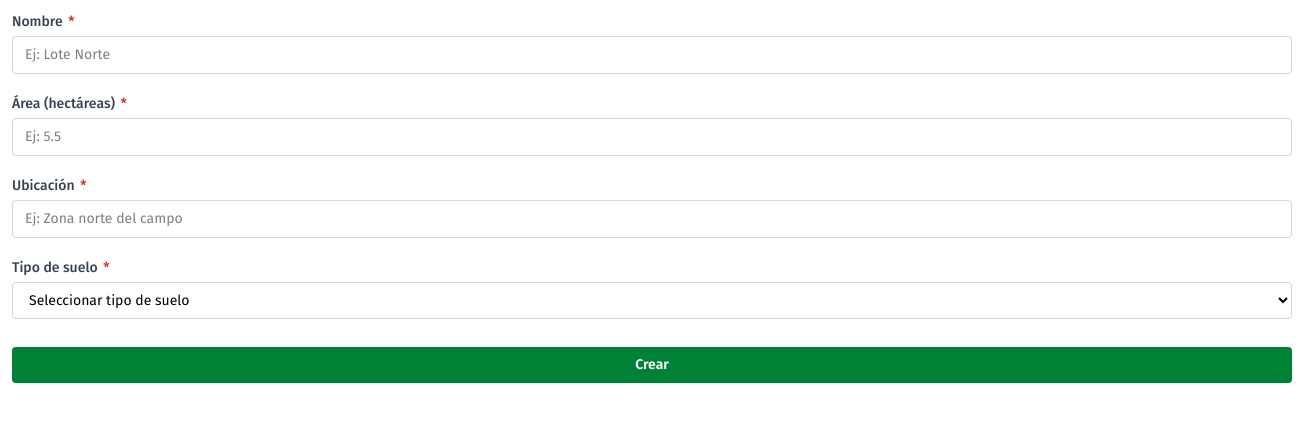
ParcelForm › shows validation error for empty location
This screenshot has width=1304, height=441.
Type "Lote Test" into the field labelled "Nombre *". click: (652, 55)
box: [12,36,1292,74]
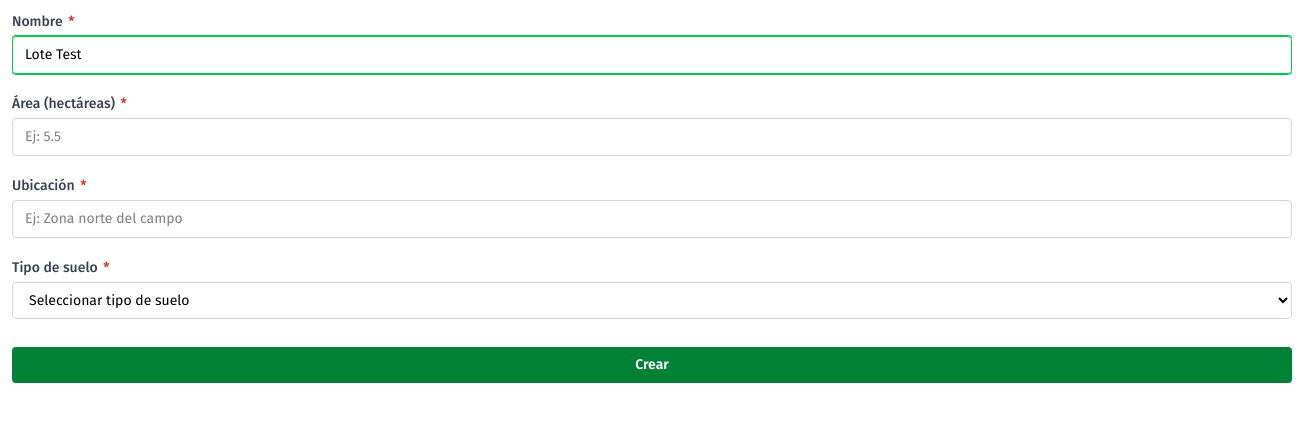
Type "5" into the number field labelled "Área (hectáreas) *". click: (652, 137)
box: [12,118,1292,156]
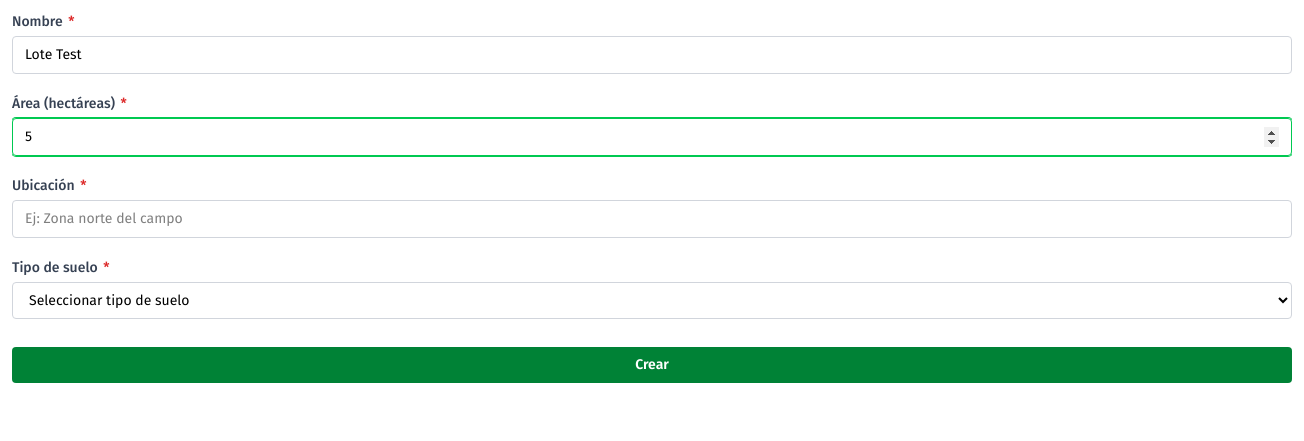
Click the button "Crear". click: (652, 365)
box: [12,347,1292,383]
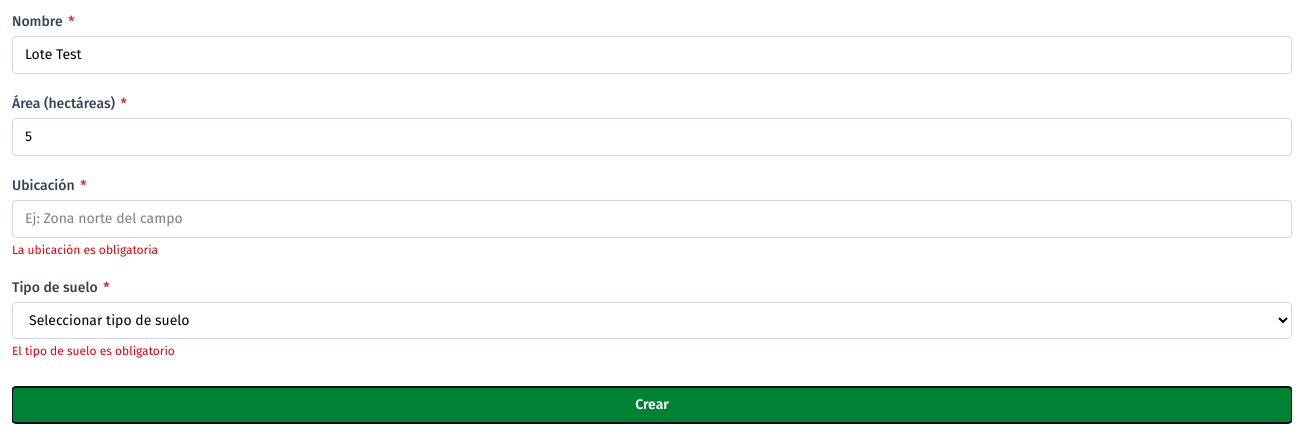
Expected: the text "La ubicación es obligatoria" is shown, [12,243,158,257]
